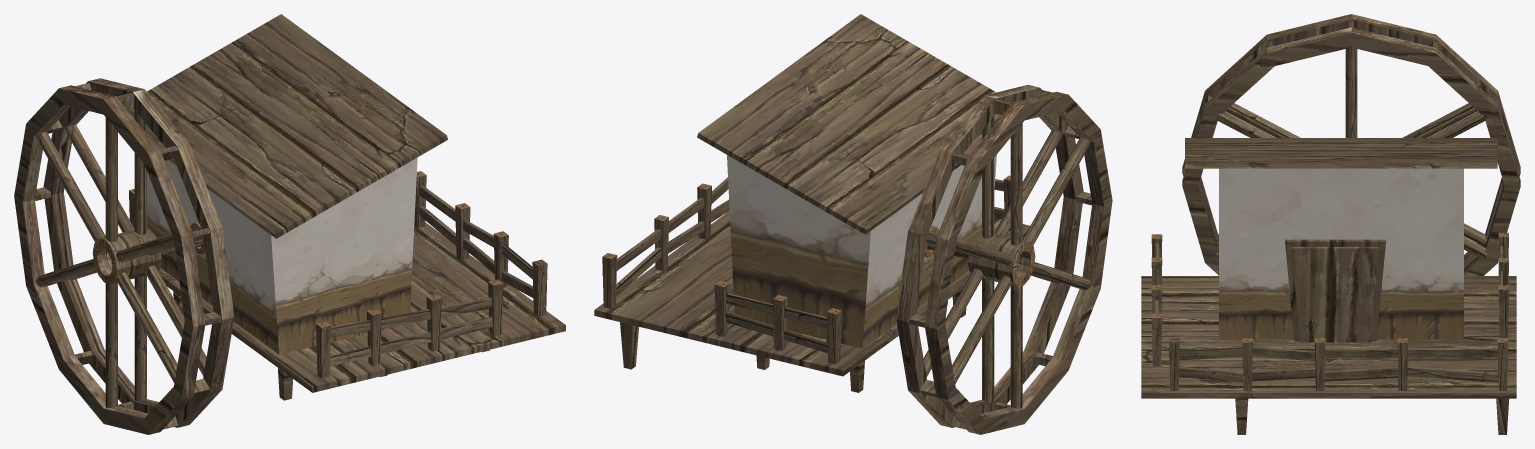
File: watermill_tex.fbx
3 renders of one model, left to right at view 1: azimuth 30°, elevation 25°; view 2: azimuth 150°, elevation 25°; view 3: azimuth 270°, elevation 25°, orthographic. The views are drawn at different scales.
Parts seen in each view (by area): view 1: house, wheel; view 2: house, wheel; view 3: house, wheel.
Part boxes in pixels (x1=…): house: x1=127, y1=14, x2=565, y2=400; wheel: x1=14, y1=78, x2=234, y2=434; house: x1=594, y1=14, x2=1029, y2=392; wheel: x1=896, y1=84, x2=1112, y2=434; house: x1=1141, y1=138, x2=1516, y2=434; wheel: x1=1182, y1=14, x2=1520, y2=275.
Bounding box in the file's own units: 24.94 × 22.05 × 24.73.
Materials: 3 (2 with a texture image).
